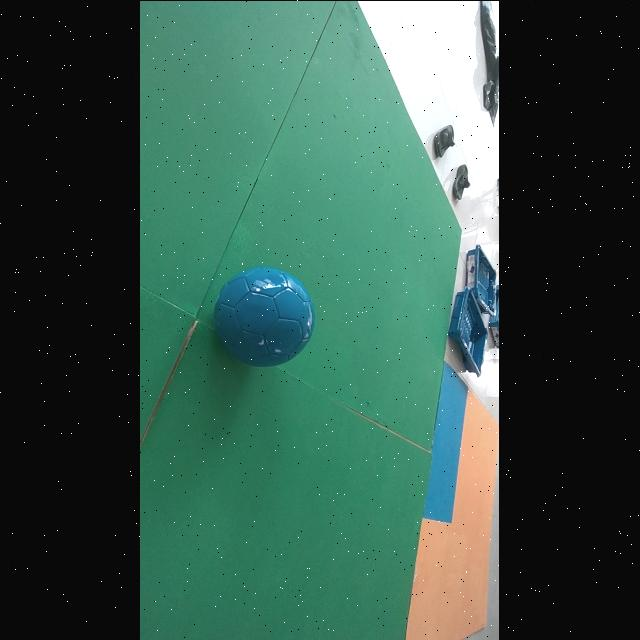B: (215, 265, 316, 366)
